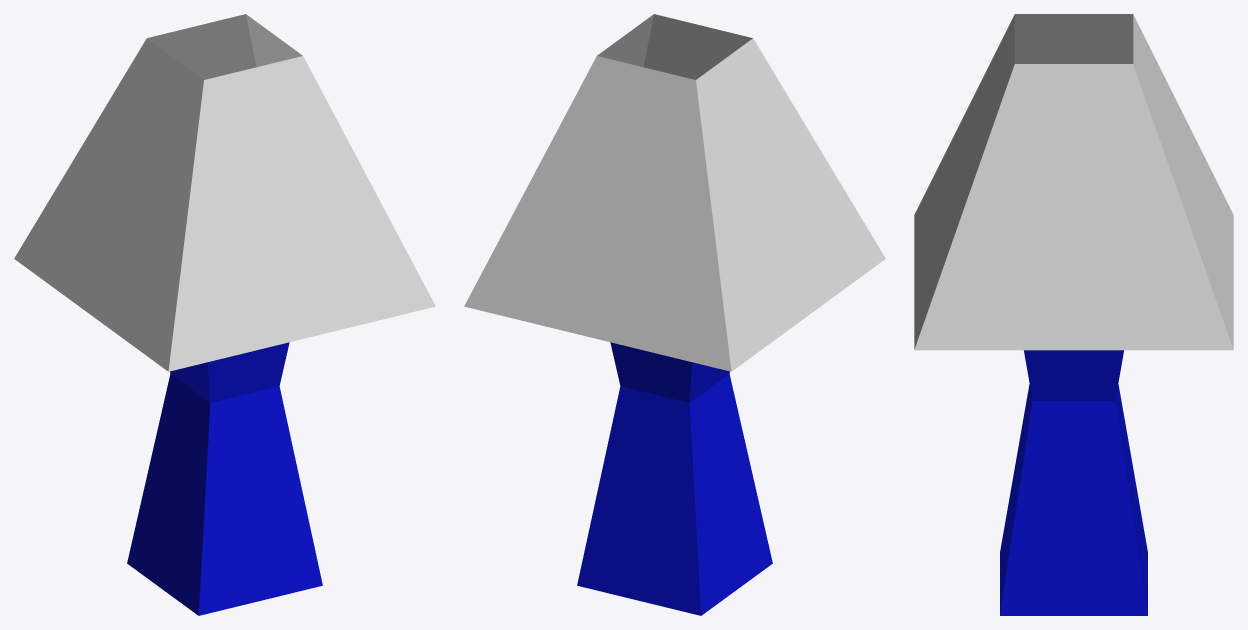
Rendered from lamp.fbx.
The picture shows the model from 3 angles, left to right: view 1: azimuth 30°, elevation 25°; view 2: azimuth 150°, elevation 25°; view 3: azimuth 270°, elevation 25°; orthographic projection. The views are drawn at different scales.
Parts seen in each view (by area): view 1: Cube.001, Cube; view 2: Cube.001, Cube; view 3: Cube.001, Cube.
Boxes of the visible parts, x1=… form: Cube.001: x1=14, y1=14, x2=435, y2=371; Cube: x1=127, y1=342, x2=322, y2=615; Cube.001: x1=464, y1=14, x2=885, y2=371; Cube: x1=577, y1=342, x2=772, y2=615; Cube.001: x1=914, y1=14, x2=1233, y2=350; Cube: x1=1000, y1=350, x2=1147, y2=615.
Size of the model in its own units: 172 by 325 by 172.
